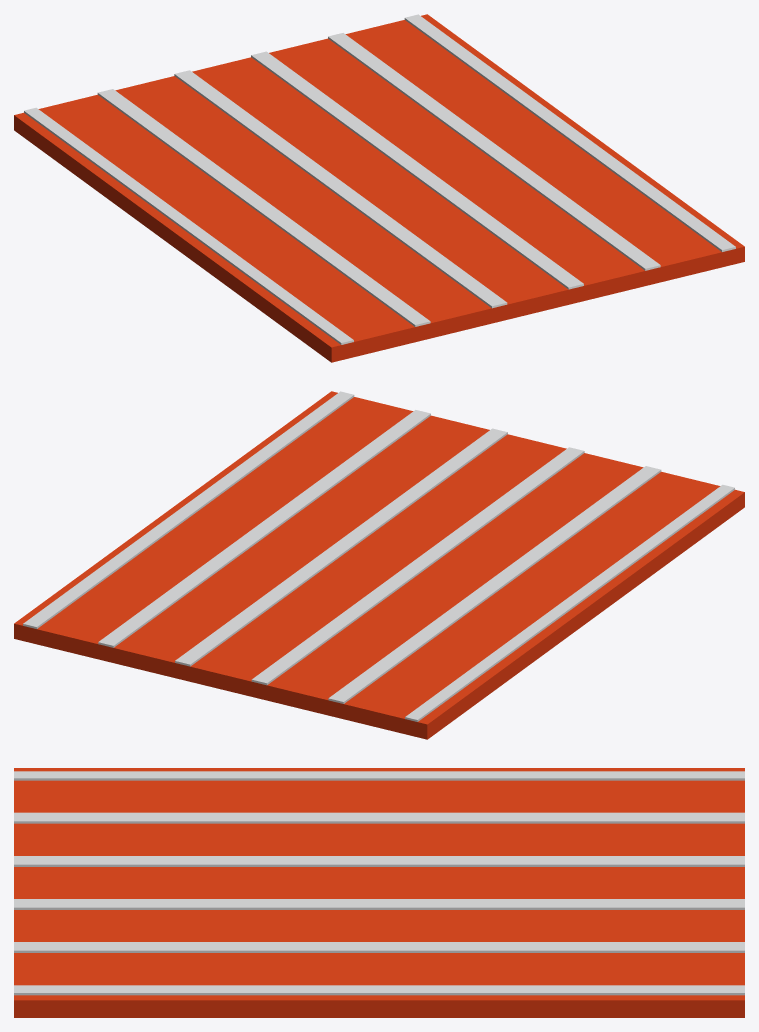
File: track.glb
The picture shows the model from 3 angles, top to bottom: view 1: azimuth 30°, elevation 25°; view 2: azimuth 150°, elevation 25°; view 3: azimuth 270°, elevation 25°; orthographic projection. The views are drawn at different scales.
Parts seen in each view (by area): view 1: Plane; view 2: Plane; view 3: Plane.
Part boxes in pixels (box(x1,y1,x2,y2)): Plane: box(14, 14, 744, 362); Plane: box(14, 391, 744, 739); Plane: box(14, 768, 744, 1017).
Size of the model in its own units: 13.86 by 0.5528 by 18.43.
Materials: 4 (1 with a texture image).
